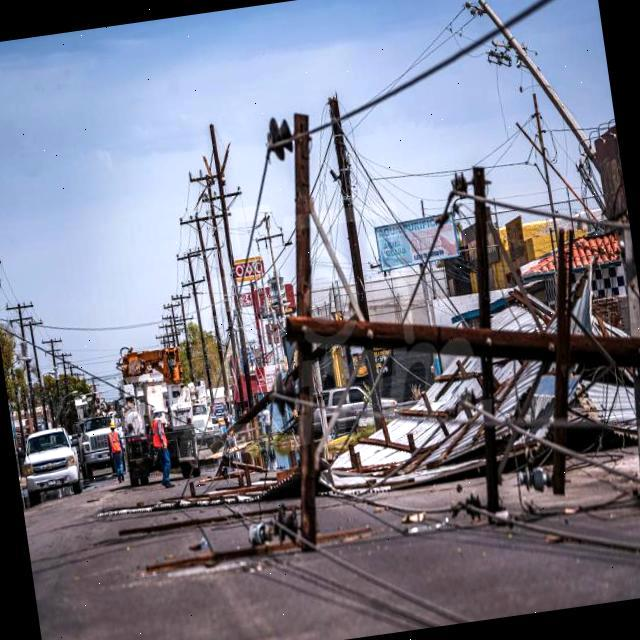Broken Pole: (244, 99, 640, 552)
